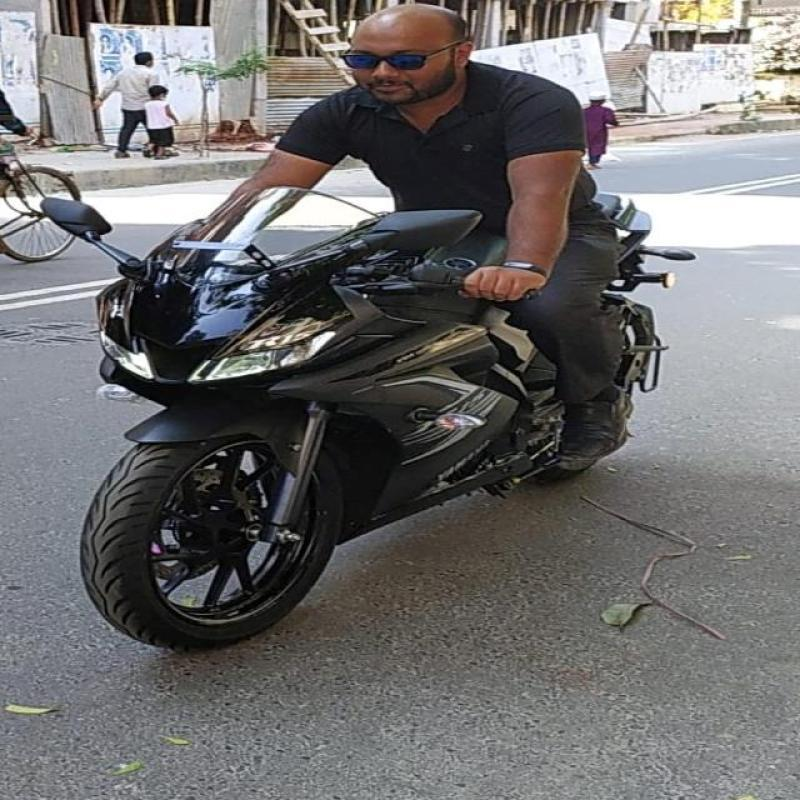nohelmet: (318, 6, 523, 106)
